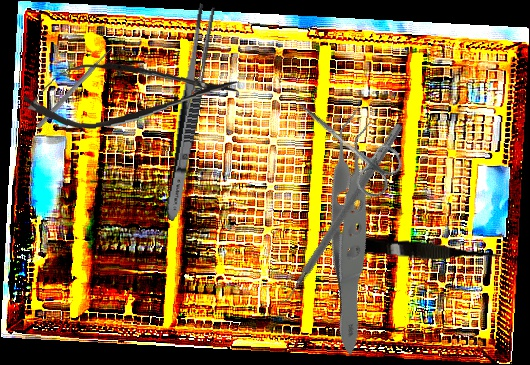Dressing Forceps: (161, 2, 217, 223)
Iris Scissors: (280, 84, 410, 203)
Micro Scissor: (21, 52, 241, 134), (349, 235, 503, 269)
Pusher: (35, 43, 117, 130)
Spatula Surgical: (270, 116, 405, 315)
Tissue Forceps: (241, 96, 471, 356)
